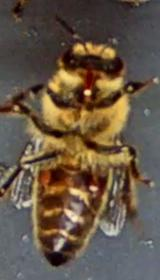varroa_mite: (73, 163, 108, 196), (32, 158, 54, 190)
